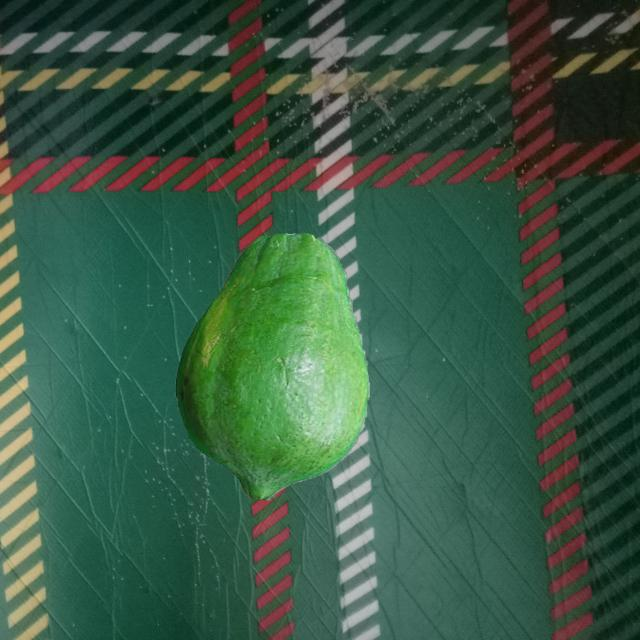Pepaya unrippen: (173, 228, 378, 504)
